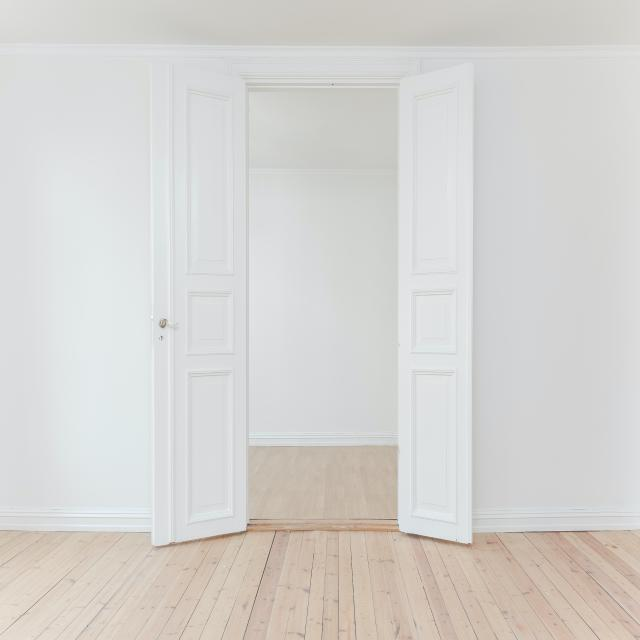floor: (0, 447, 640, 640)
